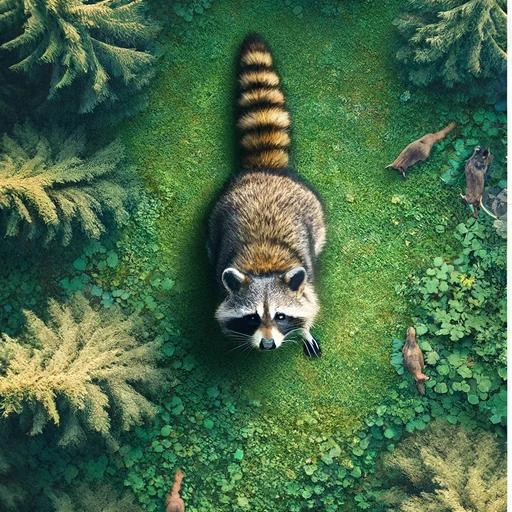raccoon: (194, 24, 333, 365)
